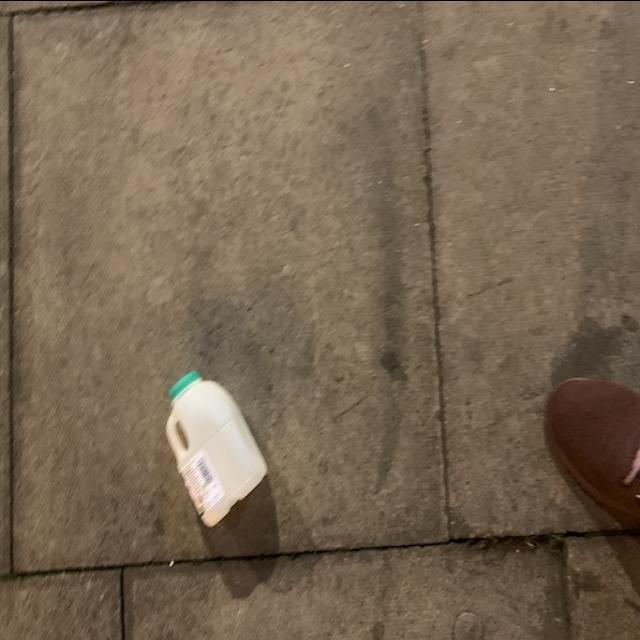HDPEM: (165, 369, 273, 530)
